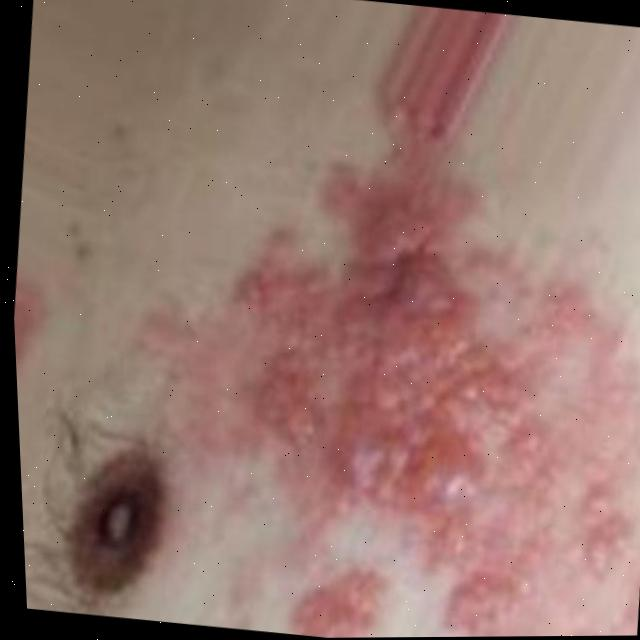Shingles: (189, 161, 640, 639)
